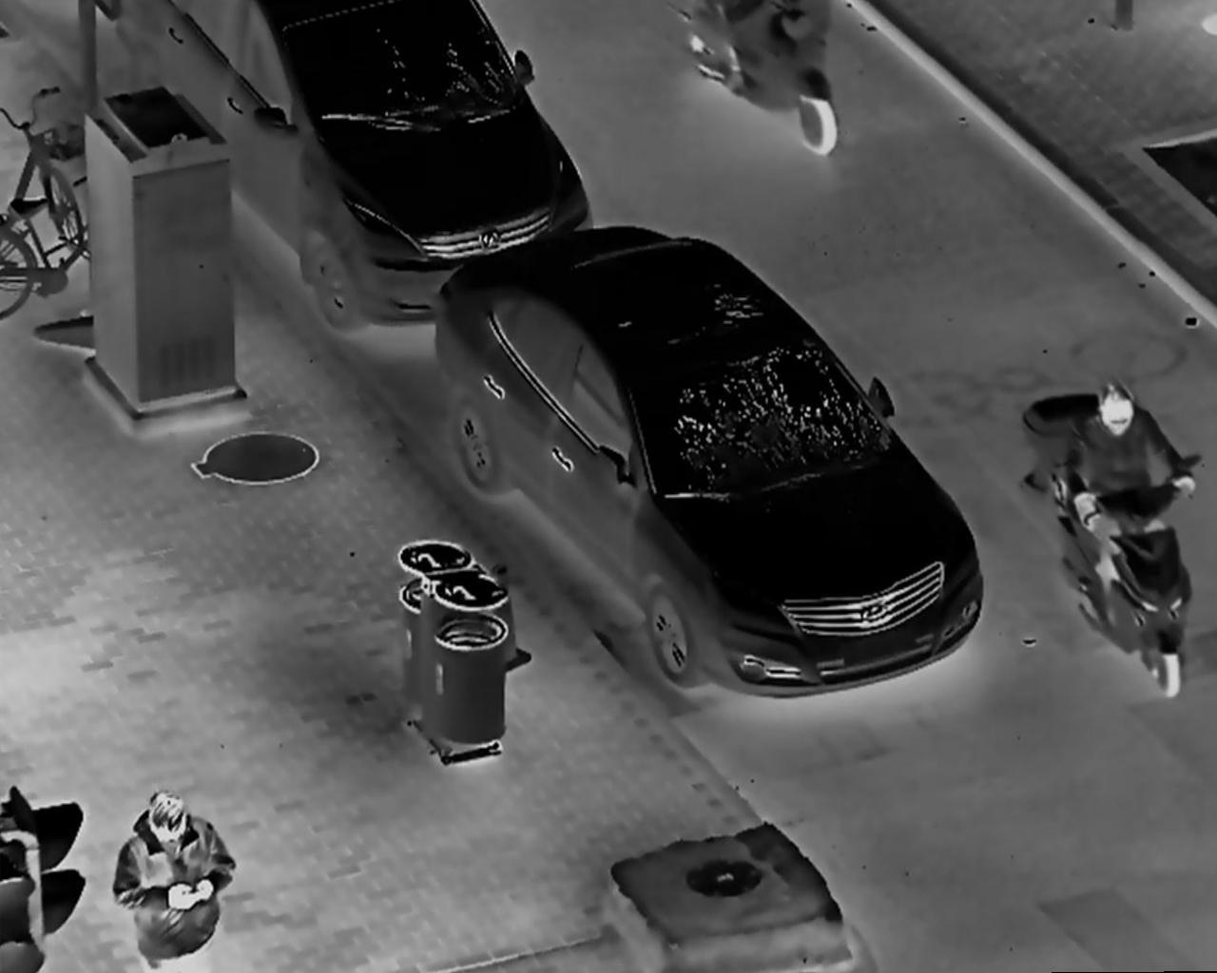person: (1061, 376, 1202, 654), (115, 792, 243, 973)
